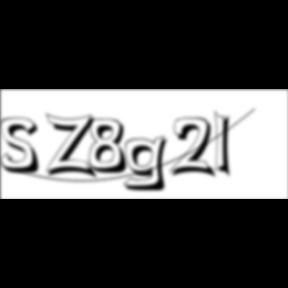2: (170, 117, 220, 181)
8: (88, 117, 134, 176)
S: (0, 117, 46, 176)
Z: (46, 112, 100, 181)
g: (123, 134, 175, 194)
l: (214, 108, 238, 182)
